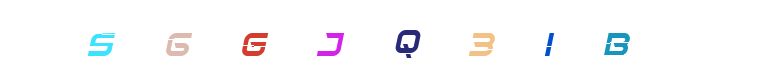3: (367, 0, 447, 80)
5: (103, 0, 183, 80)
6: (190, 0, 270, 80)
B: (555, 0, 635, 80)
G: (214, 0, 294, 80)
I: (434, 0, 514, 80)
J: (293, 0, 373, 80)
Q: (341, 0, 421, 80)
